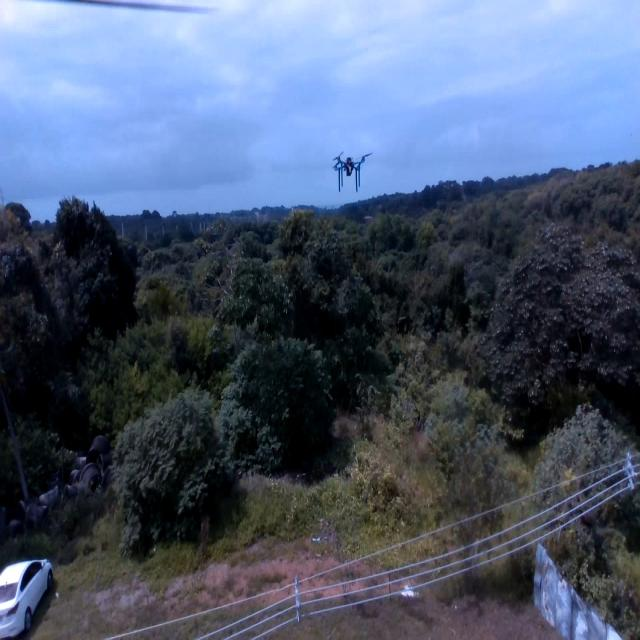-uav-: (326, 144, 372, 204)
